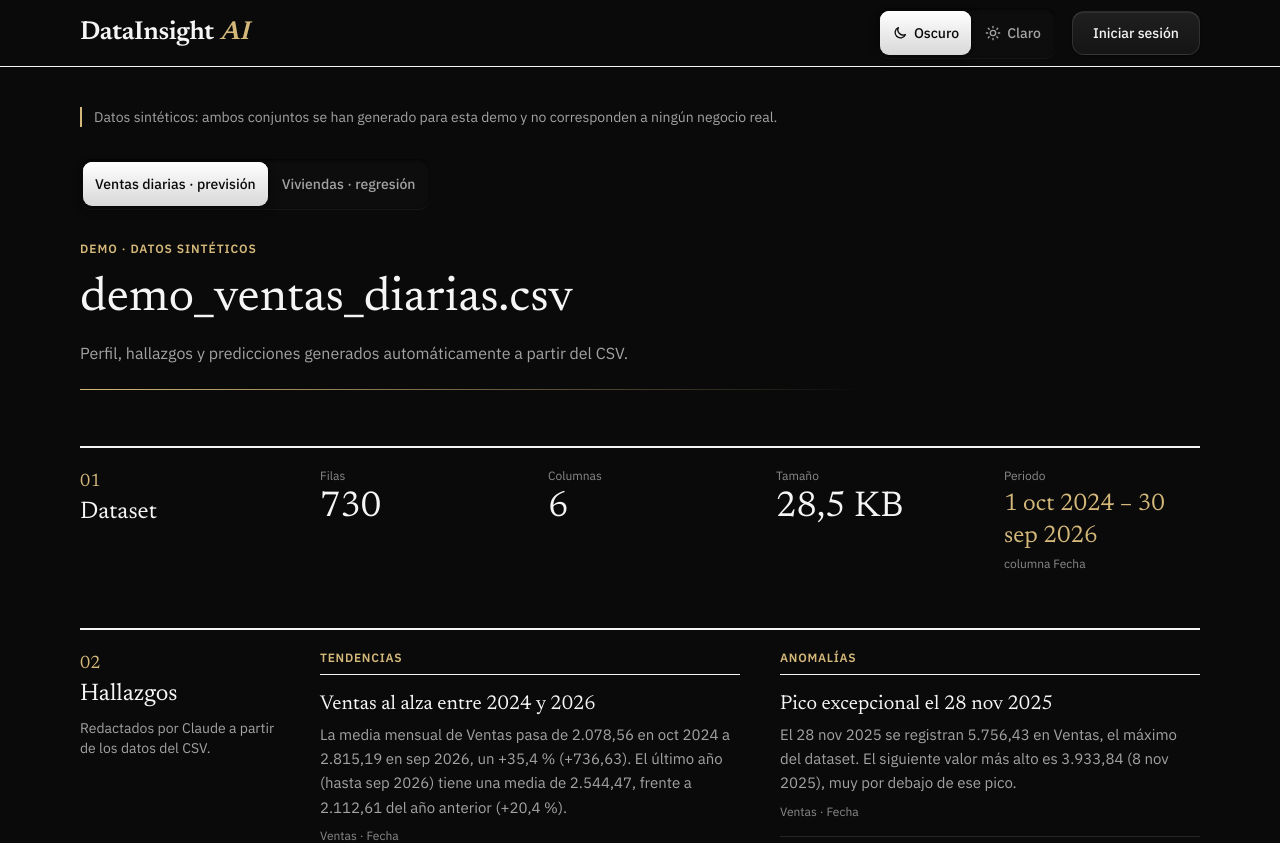
Scenario: /demo › renders both fixtures without any network request
Expected: the text "Datos sintéticos" is shown, [94,108,777,126]
Expected: the element named "Tema" is shown, [877,8,1056,58]
Click the button "Viviendas · regresión". click: (349, 184)
box: [270,162,428,206]
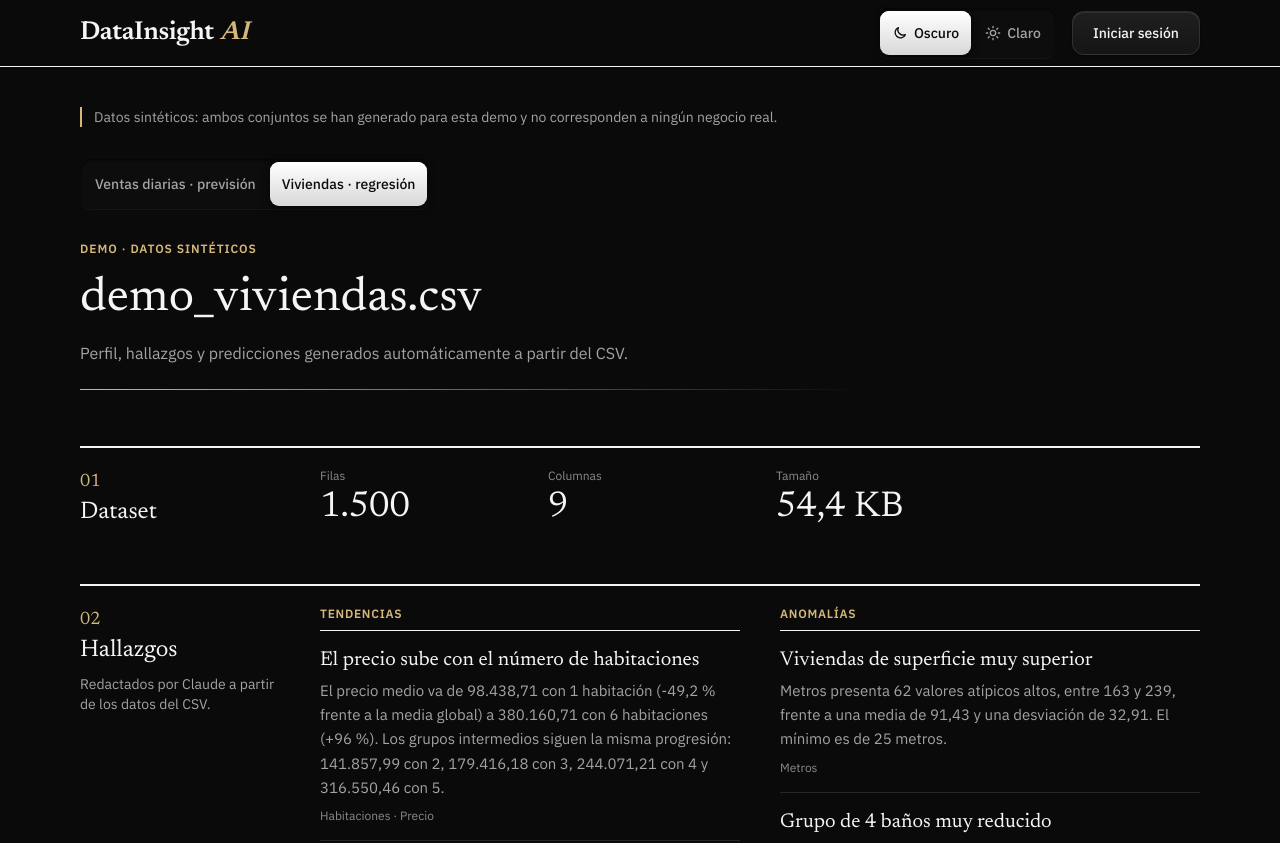
Now the heading "demo_viviendas.csv" is shown, box [80,275,482,323]
Now the heading "demo_ventas_diarias.csv" is gone
